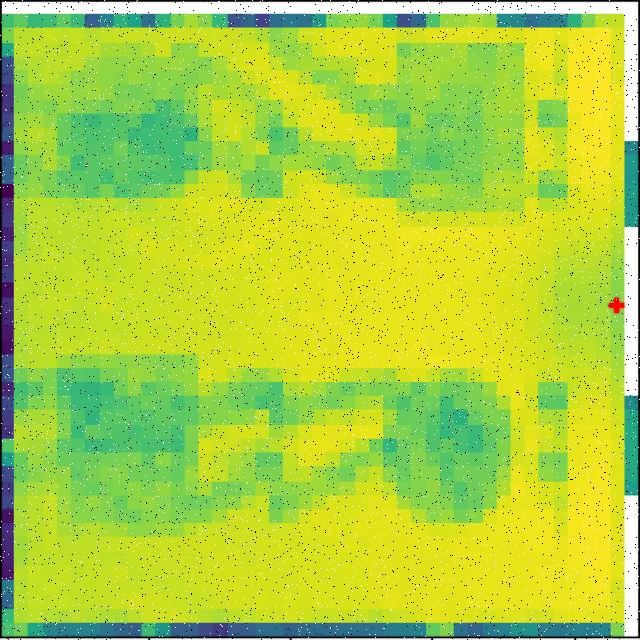Concrete: (58, 356, 200, 534)
Glass: (383, 39, 536, 229)
Metal: (52, 34, 218, 216)
Wood: (363, 358, 516, 539)
